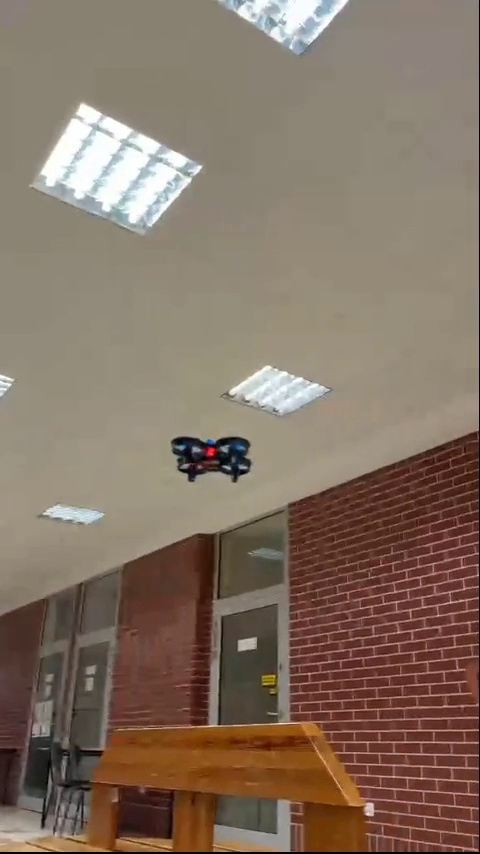drone: (171, 434, 258, 477)
